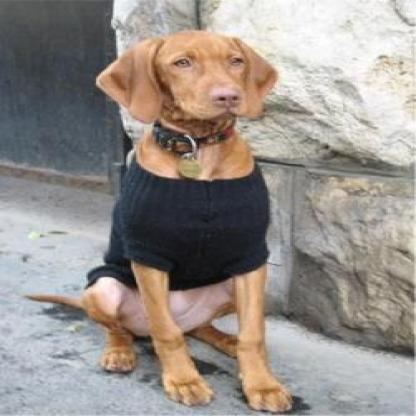vizsla: (23, 28, 292, 409)
